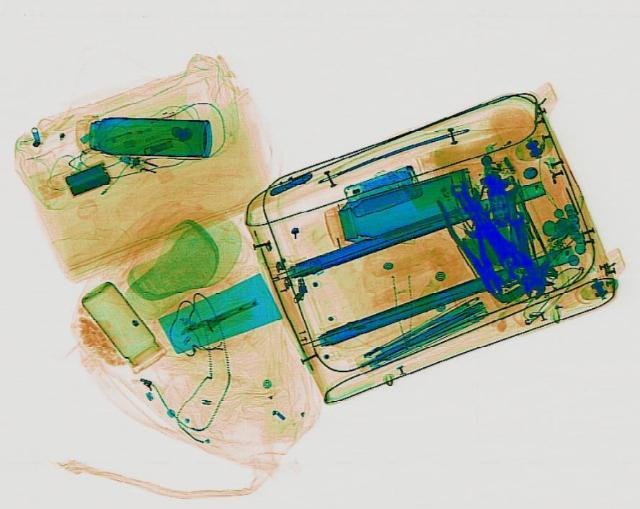Pliers: (432, 192, 514, 299)
Wrench: (441, 179, 537, 280)
